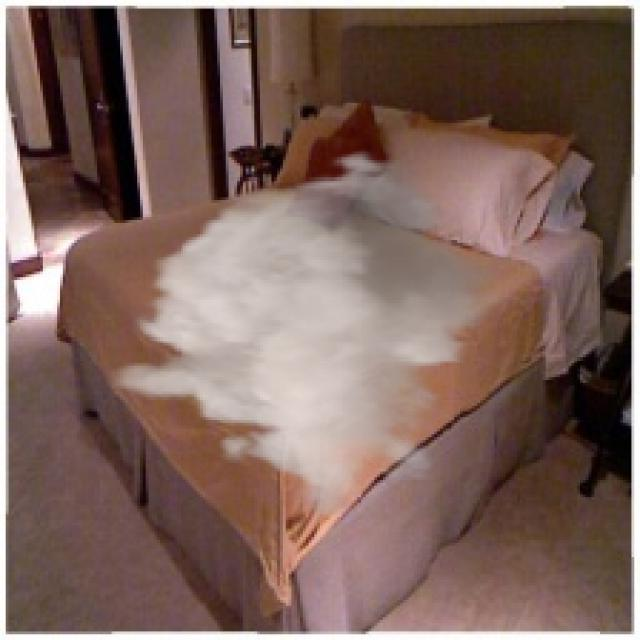smoke: (106, 149, 508, 520)
